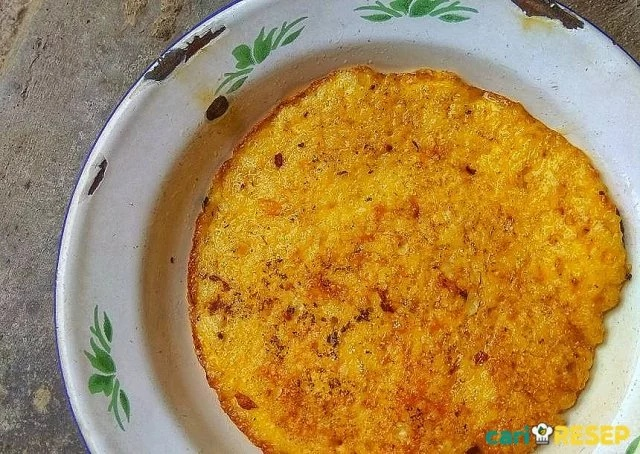kerak_telor: (180, 66, 629, 454)
